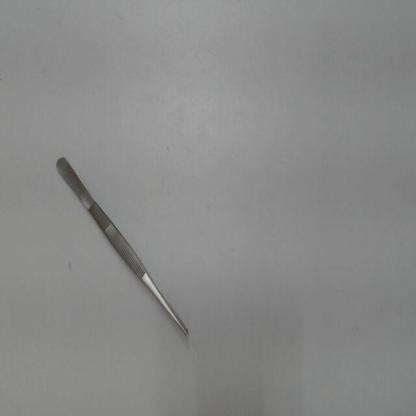Gillies Toothed Dissector: (49, 148, 207, 349)
